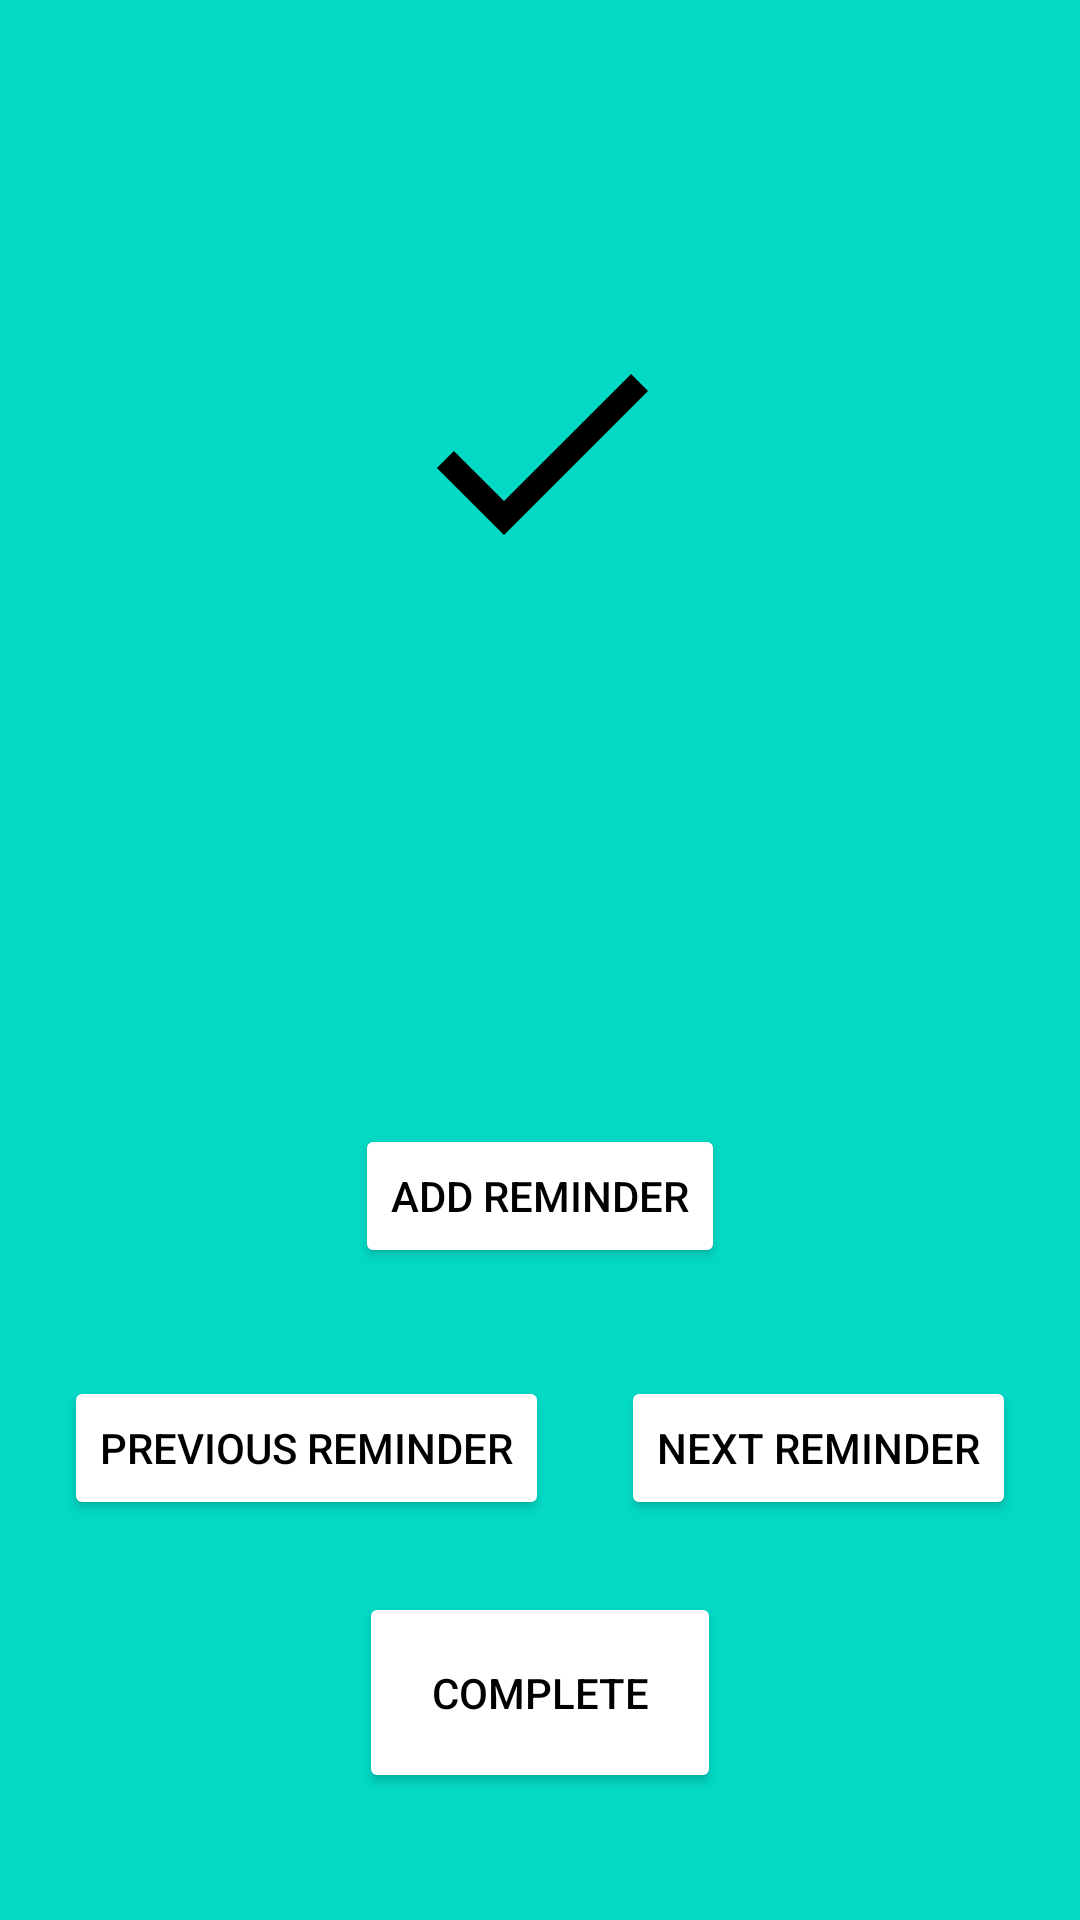

Point at icon controls on the screen. Image size 1080*1920, points as (x,y).
Image of a filled checkmark: (542,454)
